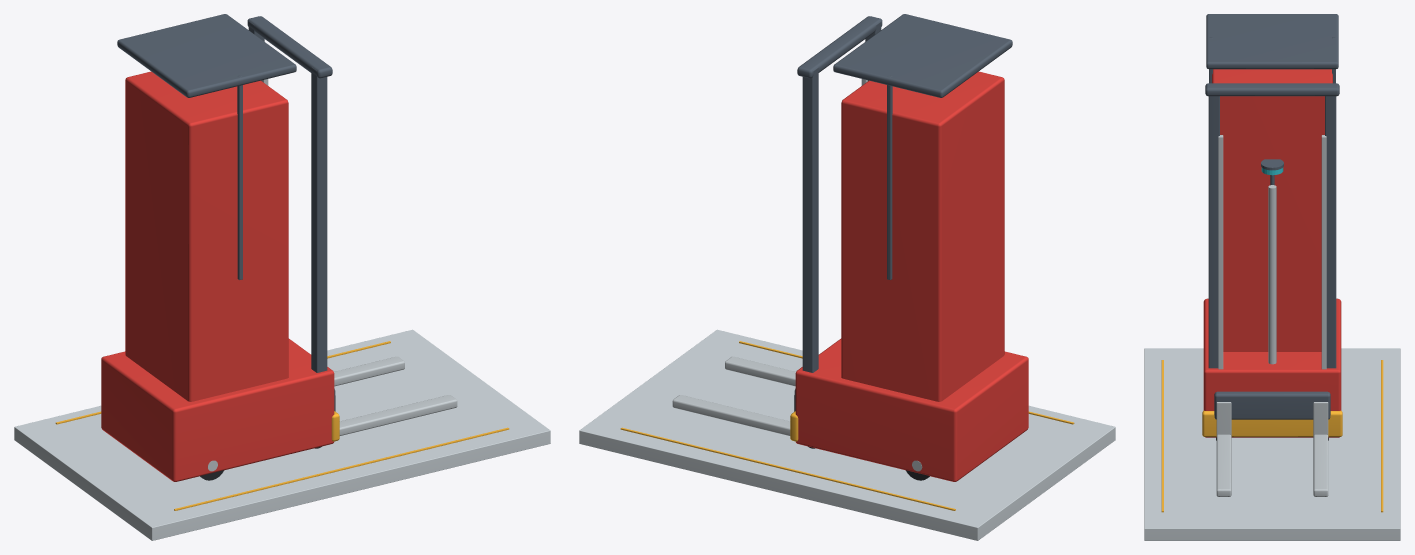
3 renders of one model, left to right at view 1: azimuth 30°, elevation 25°; view 2: azimuth 150°, elevation 25°; view 3: azimuth 270°, elevation 25°, orthographic. The views are drawn at different scales.
Parts seen in each view (by area): view 1: Operator compartment and guard, Ground plane, Power unit, Overhead guard, Lift mast outer rail, Fork tine / pallet handling, Mast crosshead, Overhead guard upright, Fork tine / pallet handling.001, Concept clearance guide; view 2: Operator compartment and guard, Ground plane, Power unit, Overhead guard, Lift mast outer rail.001, Fork tine / pallet handling.001, Mast crosshead, Overhead guard upright.001, Fork tine / pallet handling, Concept clearance guide.001; view 3: Ground plane, Operator compartment and guard, Overhead guard, Power unit, Lift mast outer rail, Lift mast outer rail.001, Fork carriage, Front safety bumper, Mast crosshead, Hydraulic lift cylinder, Lift mast inner rail, Lift mast inner rail.001 (+6 smaller).
Boxes of the visible parts, x1,y1,x2,y2 form: Operator compartment and guard: (125, 71, 288, 401); Ground plane: (14, 329, 550, 540); Power unit: (101, 338, 334, 481); Overhead guard: (117, 14, 296, 97); Lift mast outer rail: (311, 67, 327, 372); Fork tine / pallet handling: (339, 395, 457, 435); Mast crosshead: (247, 16, 332, 78); Overhead guard upright: (237, 75, 242, 279); Fork tine / pallet handling.001: (334, 356, 404, 386); Concept clearance guide: (174, 427, 509, 510); Operator compartment and guard: (841, 71, 1004, 401); Ground plane: (579, 329, 1115, 540); Power unit: (795, 338, 1028, 481); Overhead guard: (833, 14, 1012, 97); Lift mast outer rail.001: (802, 67, 818, 372); Fork tine / pallet handling.001: (672, 395, 790, 435); Mast crosshead: (797, 16, 882, 78); Overhead guard upright.001: (887, 75, 892, 279); Fork tine / pallet handling: (725, 356, 795, 386); Concept clearance guide.001: (620, 427, 955, 510); Ground plane: (1144, 348, 1400, 540); Operator compartment and guard: (1212, 69, 1332, 351); Overhead guard: (1206, 14, 1338, 69); Power unit: (1203, 298, 1341, 437); Lift mast outer rail: (1208, 96, 1219, 368); Lift mast outer rail.001: (1325, 96, 1336, 368); Fork carriage: (1214, 391, 1330, 419); Front safety bumper: (1202, 410, 1342, 436); Mast crosshead: (1205, 83, 1339, 96); Hydraulic lift cylinder: (1268, 185, 1276, 364); Lift mast inner rail: (1218, 135, 1223, 369); Lift mast inner rail.001: (1321, 135, 1326, 369).
Size of the model in its own units: 3.7 by 3.62 by 2.22.
